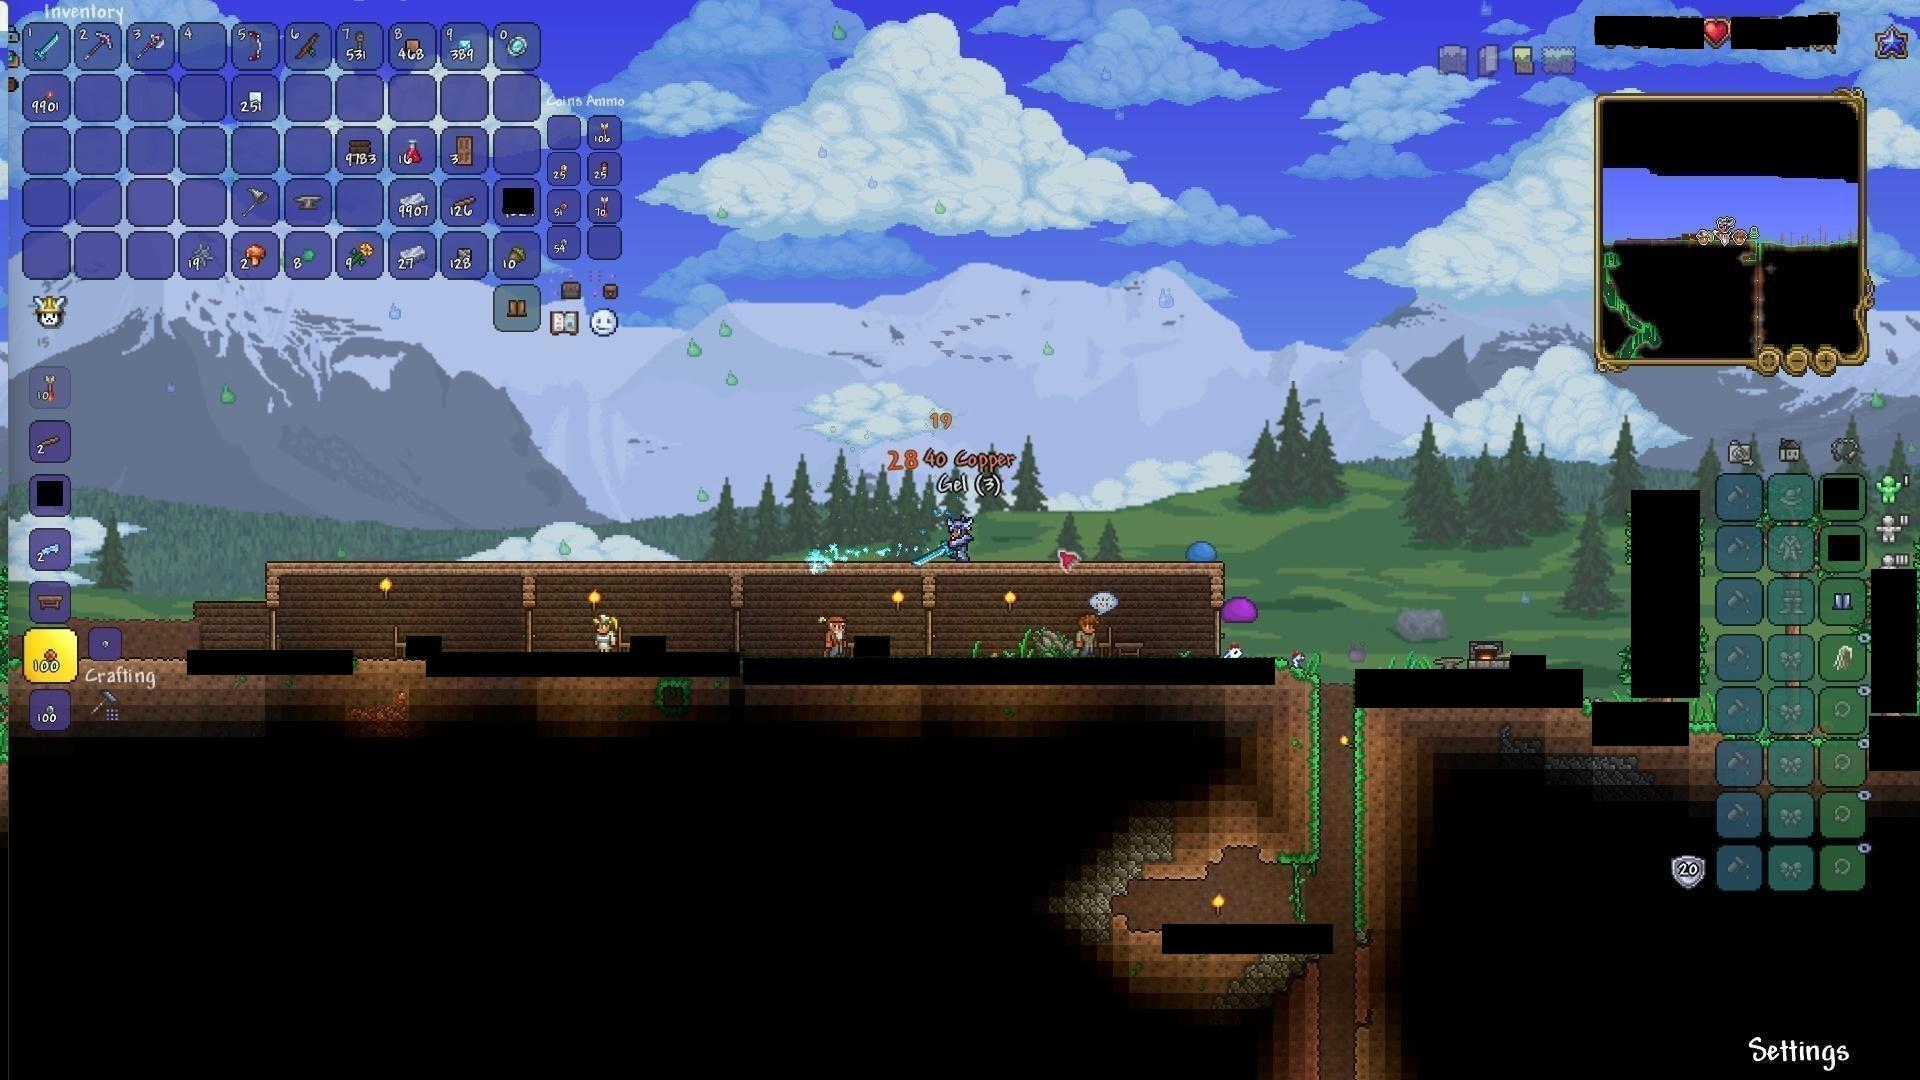dirt: (1348, 709, 1387, 927), (1278, 669, 1317, 866)
heart: (1702, 18, 1731, 49)
legs: (1832, 587, 1857, 617), (504, 291, 529, 322)
slime: (1218, 593, 1265, 630), (1182, 534, 1221, 564)
workbench: (33, 589, 69, 617), (1110, 638, 1145, 661)
